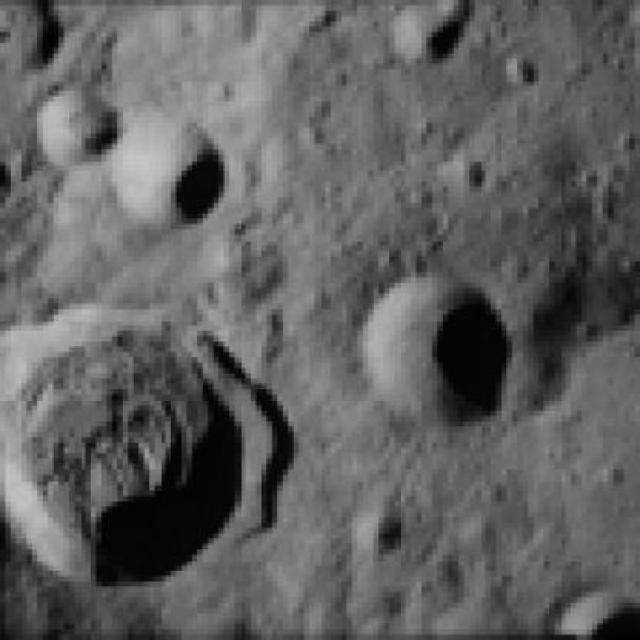crater: (0, 317, 246, 586), (360, 272, 508, 430), (109, 121, 223, 228), (37, 79, 117, 173), (391, 0, 474, 62)
